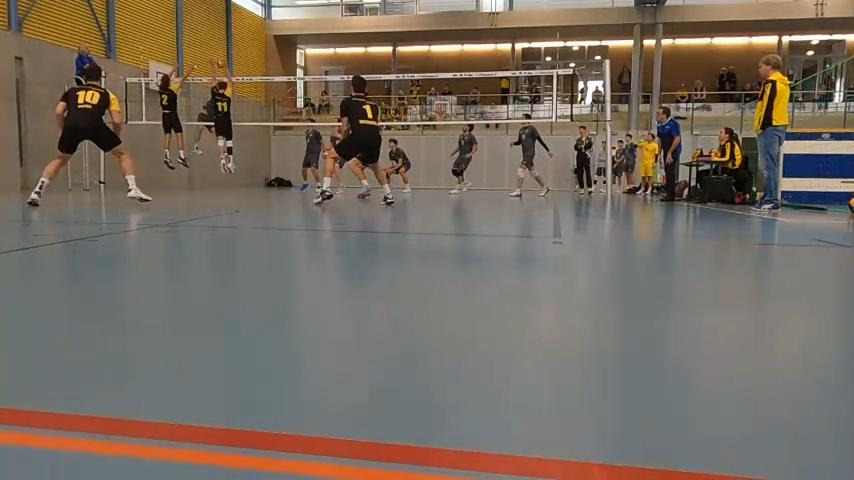Attack: (194, 70, 218, 158)
Block: (152, 62, 194, 173), (197, 70, 240, 174)
Player: (27, 64, 151, 205), (314, 75, 394, 204), (510, 113, 552, 197), (449, 124, 477, 194), (384, 139, 411, 192), (300, 127, 322, 190), (323, 118, 340, 160)
ball: (213, 57, 226, 69)
